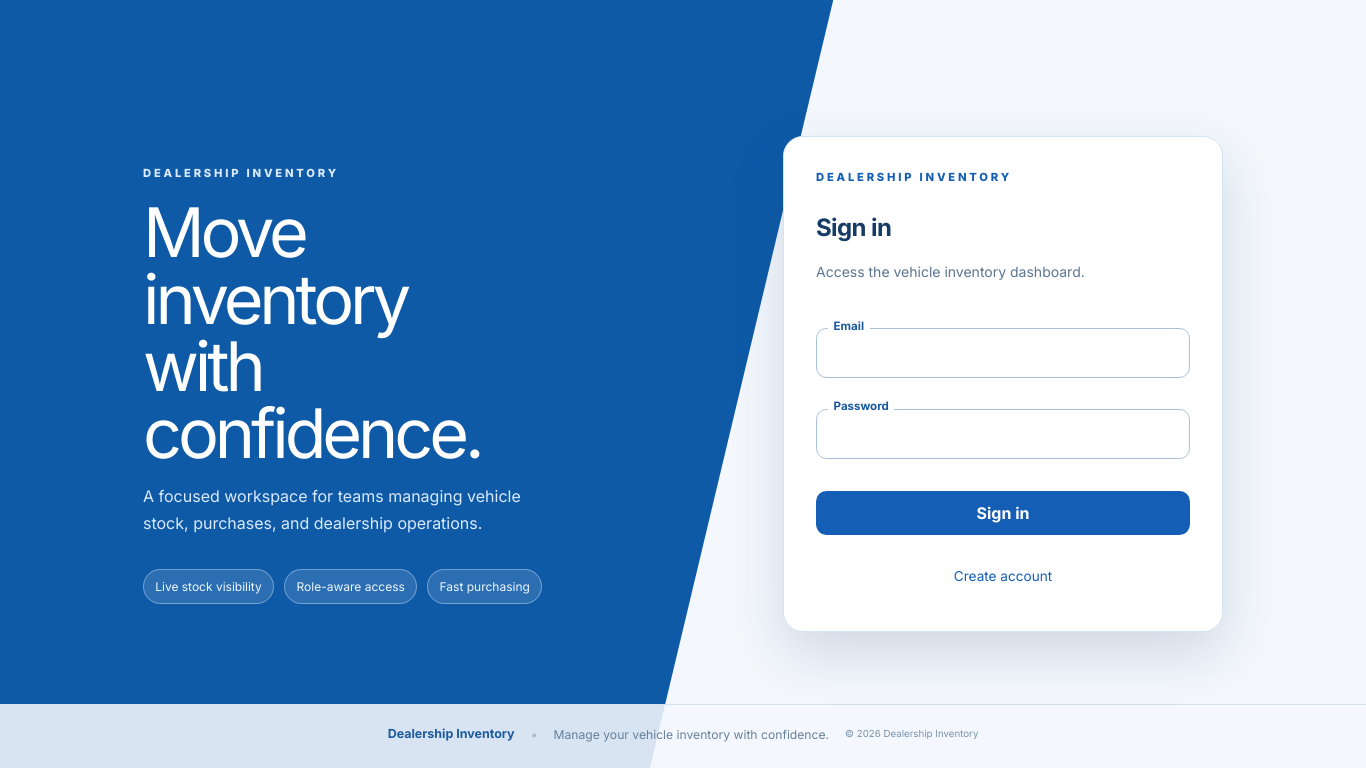
Test: App › logs in and opens the inventory dashboard
In the field labelled "Email": (1003, 354) [816,328,1190,378], type "buyer@example.com"
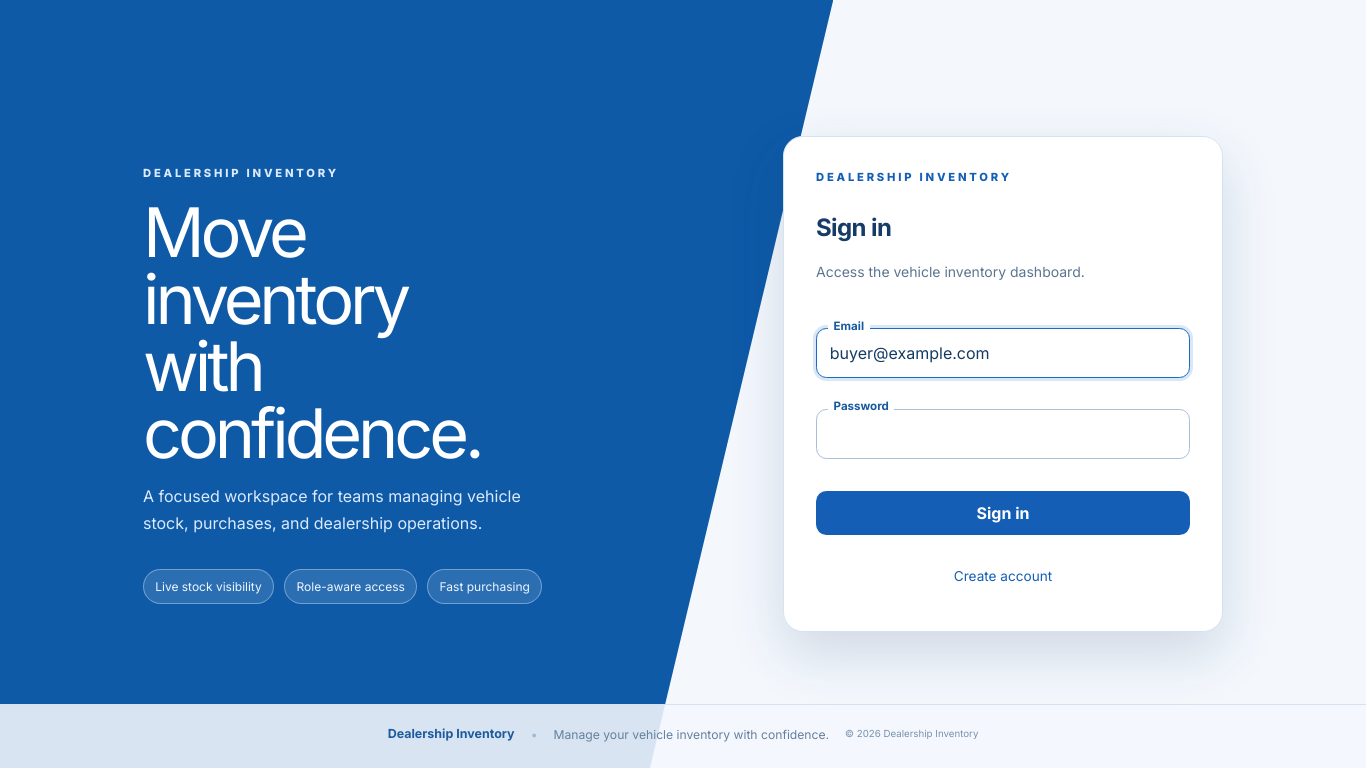
In the password field labelled "Password": (1003, 434) [816,409,1190,459], type "password123"
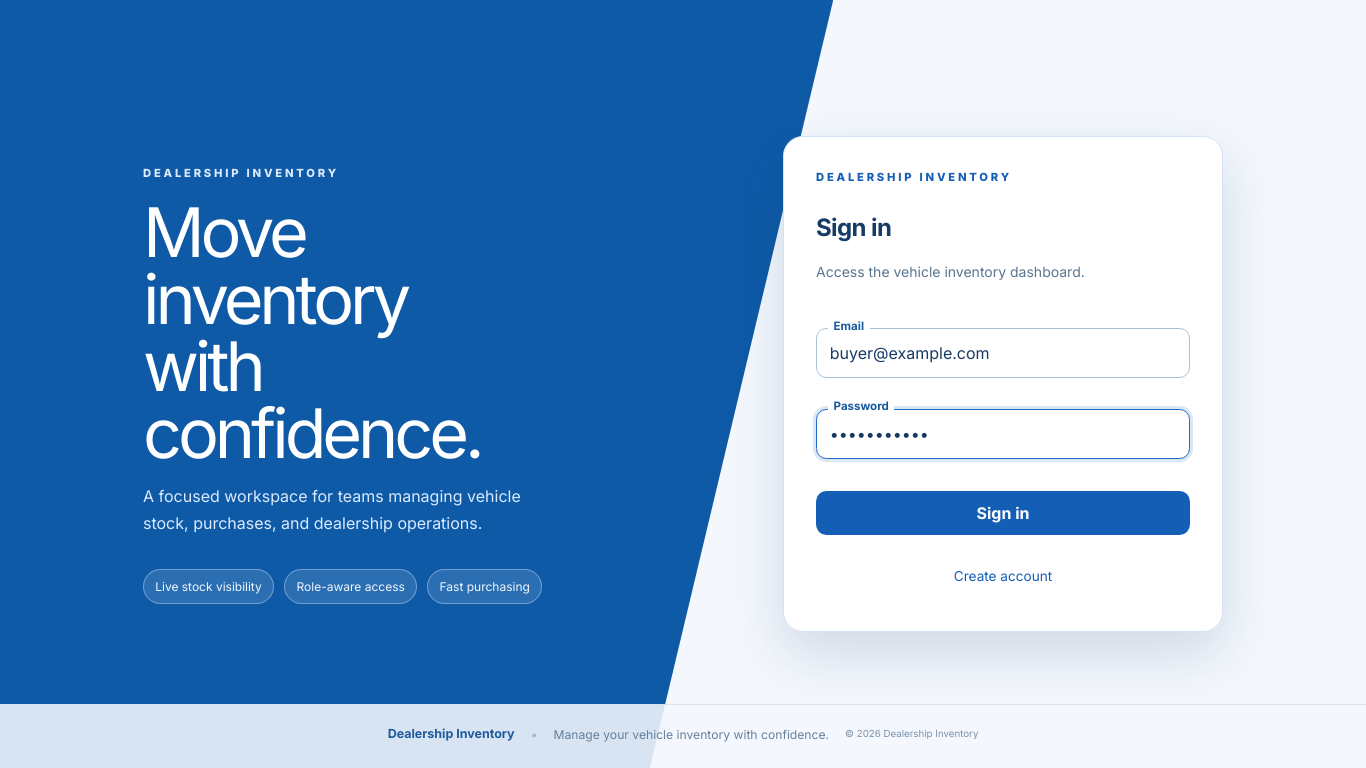
Click the button "Sign in": click(1003, 513) [816,491,1190,535]
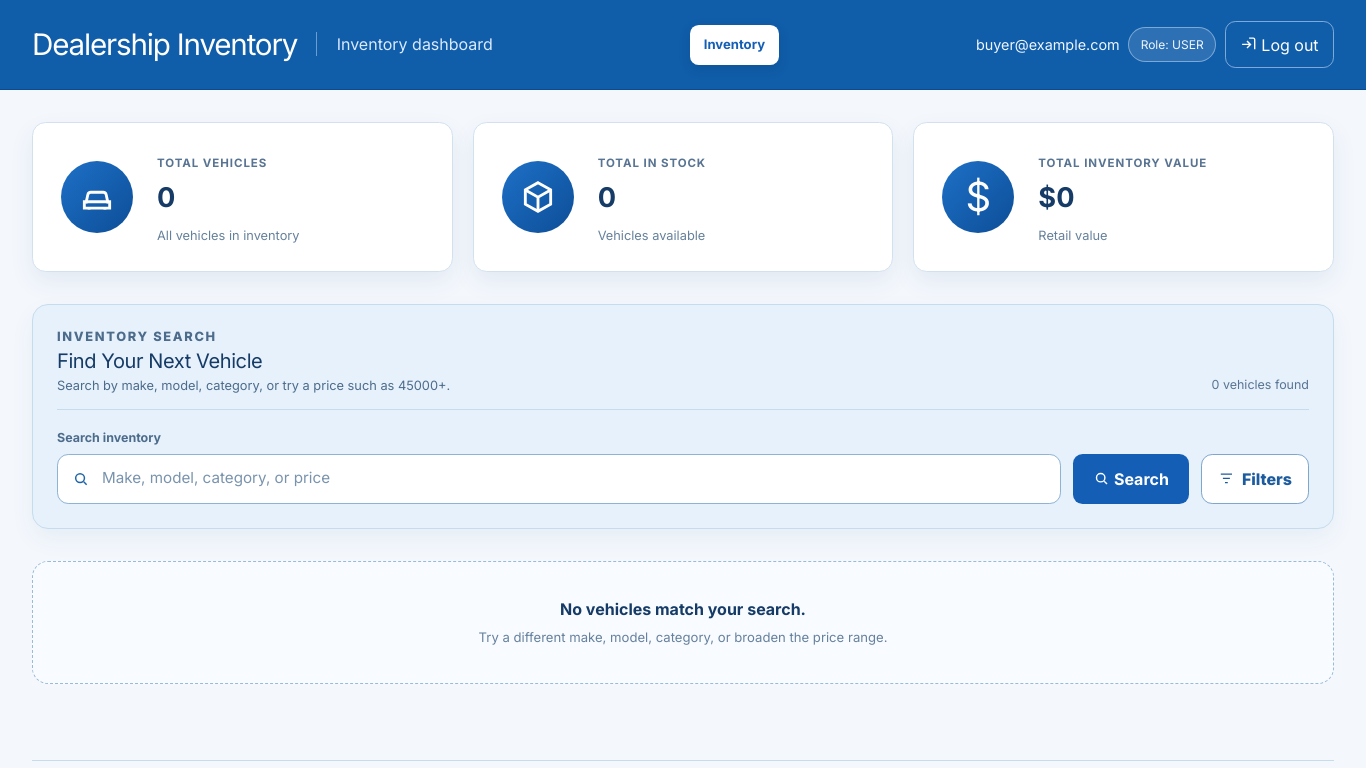
Check: the heading "Inventory dashboard" is shown, box [316,32,493,56]
Check: the text "buyer@example.com" is shown, box [976,34,1120,55]
